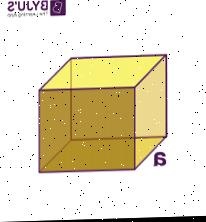cube: (38, 56, 167, 173)
